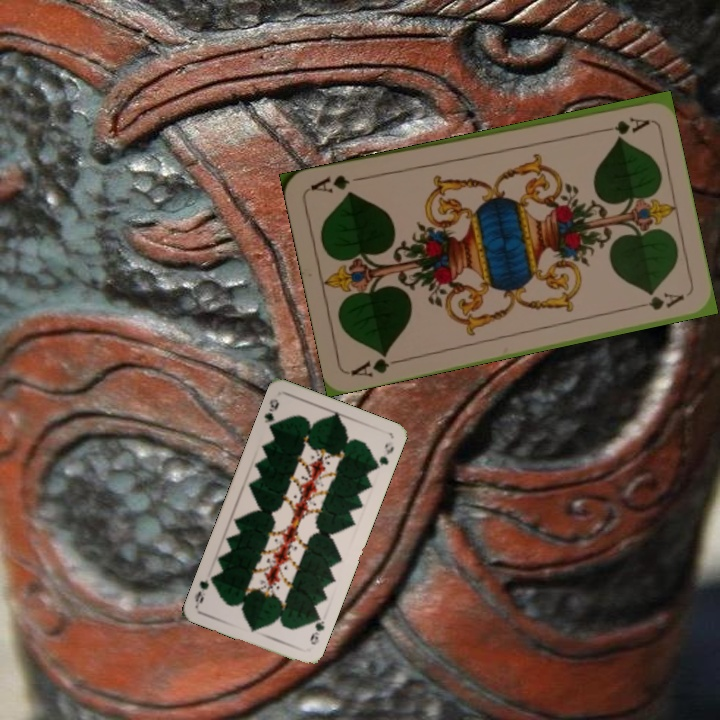G9: (260, 394, 282, 434), (306, 610, 327, 648)
GA: (347, 348, 405, 380), (592, 113, 651, 136)
